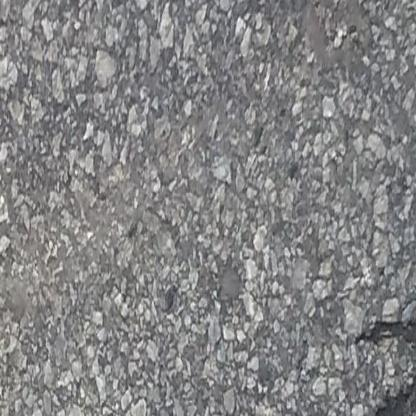Cracks: (351, 303, 416, 416)
